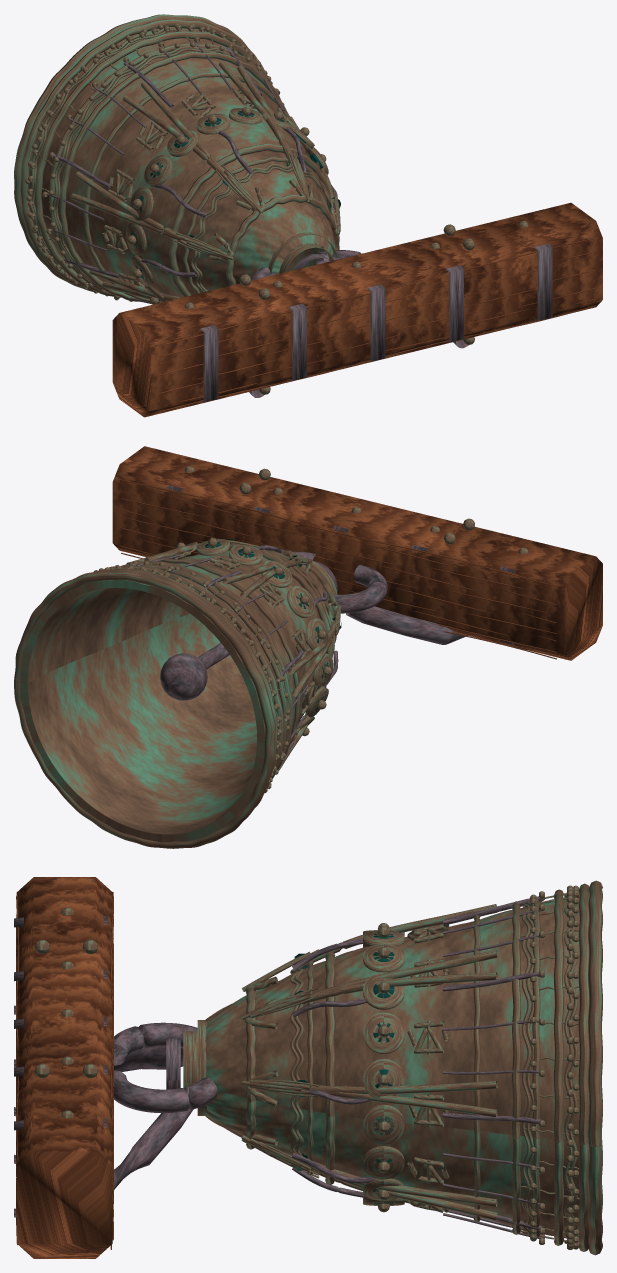
The model's file is SM_BlackBell_Hero_v3.obj.
The picture shows the model from 3 angles, top to bottom: view 1: azimuth 30°, elevation 25°; view 2: azimuth 150°, elevation 25°; view 3: azimuth 270°, elevation 25°; orthographic projection. The views are drawn at different scales.
Parts seen in each view (by area): view 1: SM_BlackBell_Hero_v2, SM_BlackBell_Hero_v3_GothicRelief; view 2: SM_BlackBell_Hero_v2, SM_BlackBell_Hero_v3_GothicRelief; view 3: SM_BlackBell_Hero_v2, SM_BlackBell_Hero_v3_GothicRelief.
Part boxes in pixels (x1,y1,x2,y2): SM_BlackBell_Hero_v2: (14, 14, 602, 417); SM_BlackBell_Hero_v3_GothicRelief: (27, 25, 340, 303); SM_BlackBell_Hero_v2: (14, 446, 602, 848); SM_BlackBell_Hero_v3_GothicRelief: (93, 538, 341, 793); SM_BlackBell_Hero_v2: (14, 877, 602, 1258); SM_BlackBell_Hero_v3_GothicRelief: (241, 885, 579, 1249).
Size of the model in its own units: 230 by 132 by 209.
11 materials, 10 textured.
